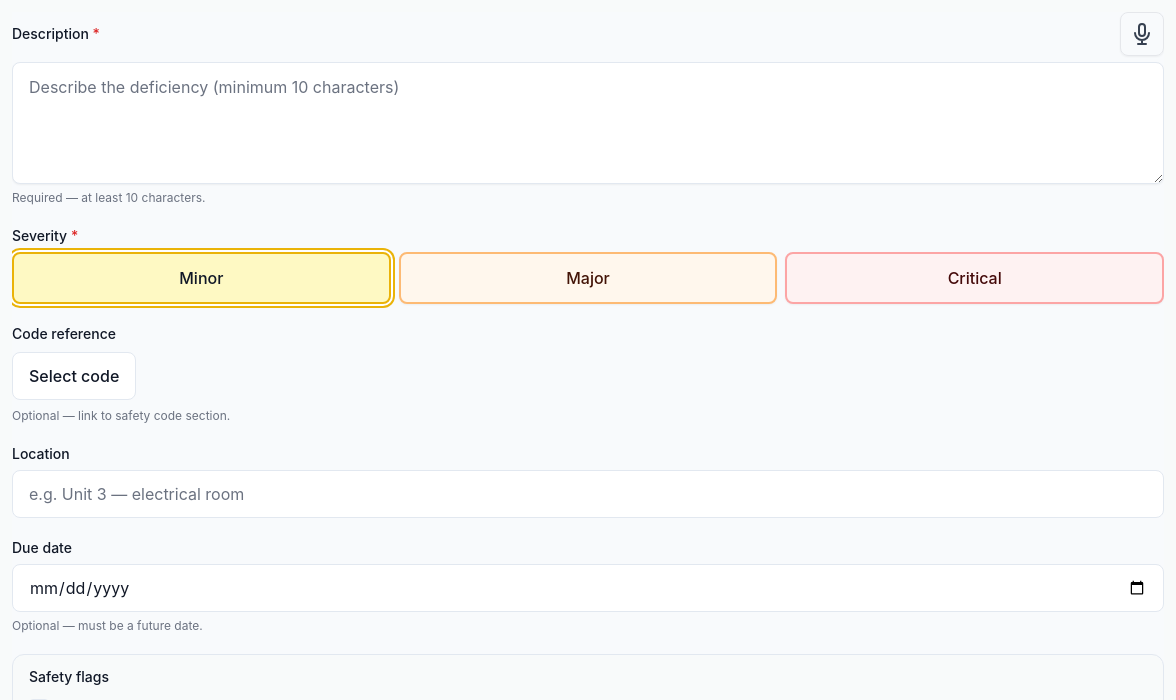
Scenario: DeficiencyForm › voice input on description (M7-S14) › appends dictated transcript to description after press-hold-release
Type "Initial note." into the text box with test id "deficiency-description" at {"x": 588, "y": 123}, box top-left (12, 62), bottom-right (1164, 184)
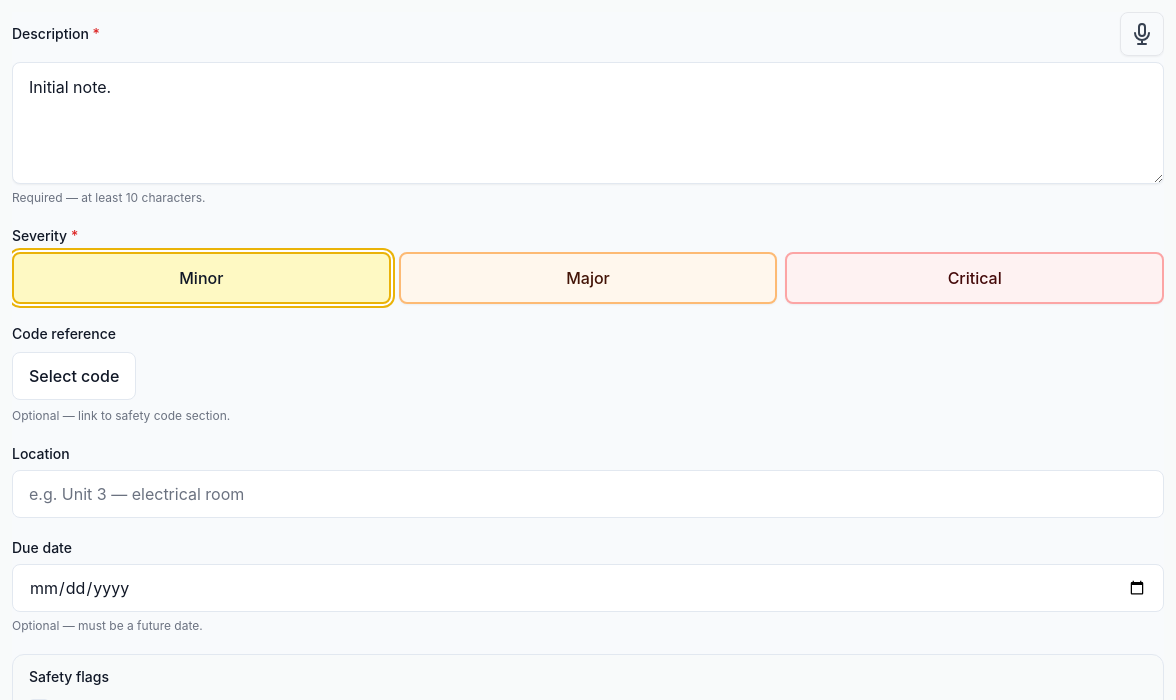
Press the mouse on the button with test id "voice-input-button" at {"x": 1142, "y": 34}, box top-left (1120, 12), bottom-right (1164, 56)
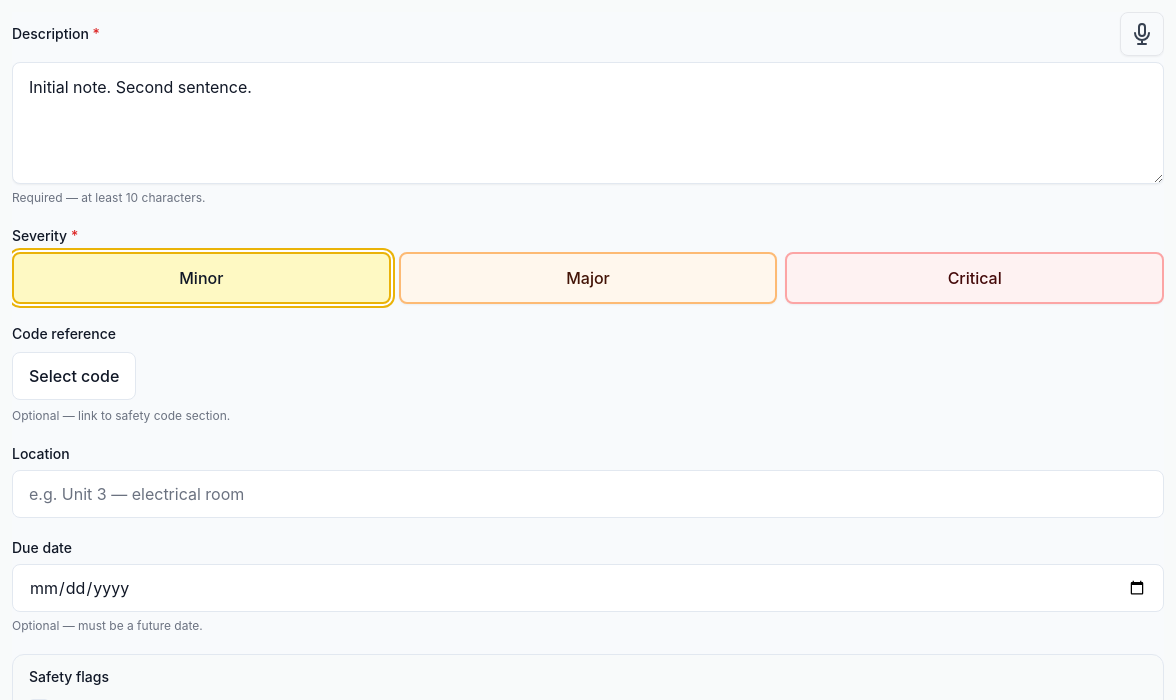
Result: the text box with test id "deficiency-description" holds "Initial note. Second sentence." at top-left (12, 62), bottom-right (1164, 184)
